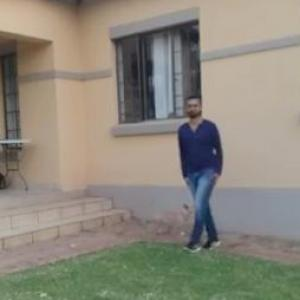follow: (177, 91, 232, 253)
